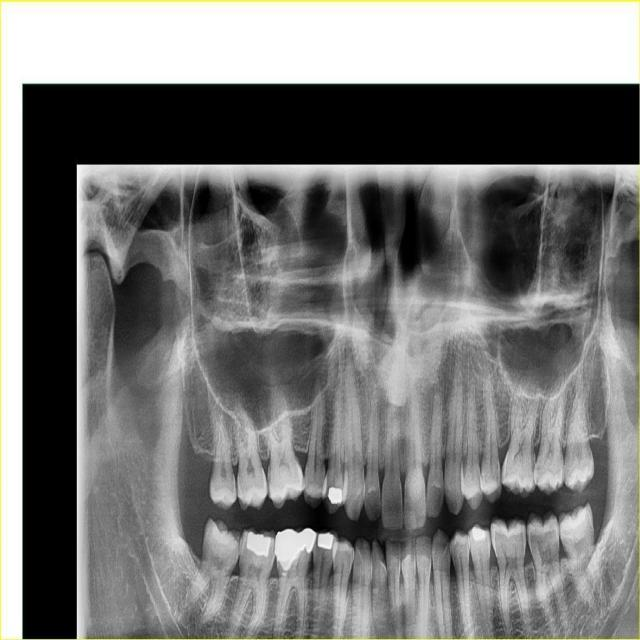NucleOSS Implant: (263, 515, 323, 574), (245, 533, 271, 559), (315, 531, 335, 550), (327, 486, 343, 508), (472, 528, 486, 541)
